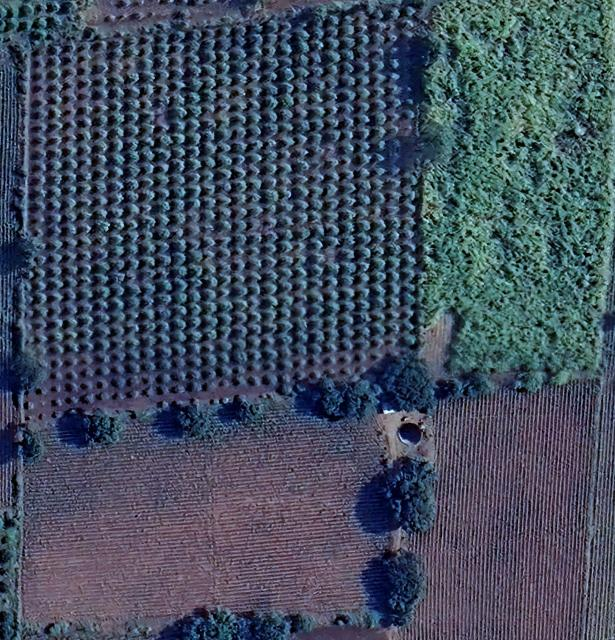Farms: (22, 2, 423, 424), (21, 392, 406, 638), (419, 4, 613, 376), (407, 375, 607, 640)
